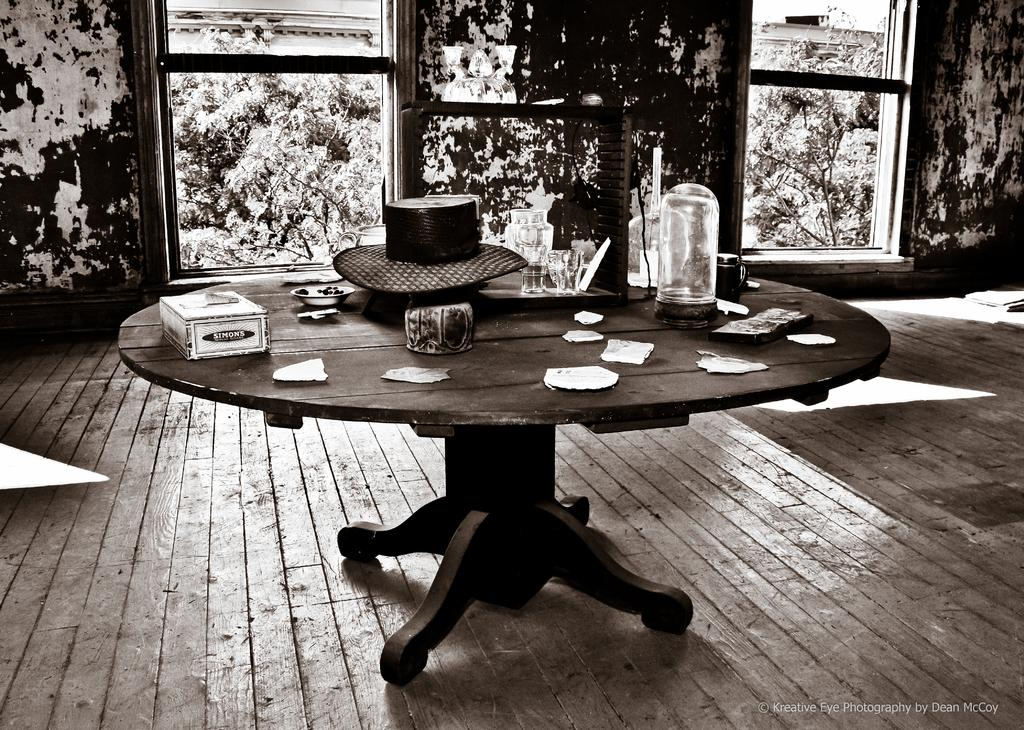Hat: (334, 194, 526, 294)
